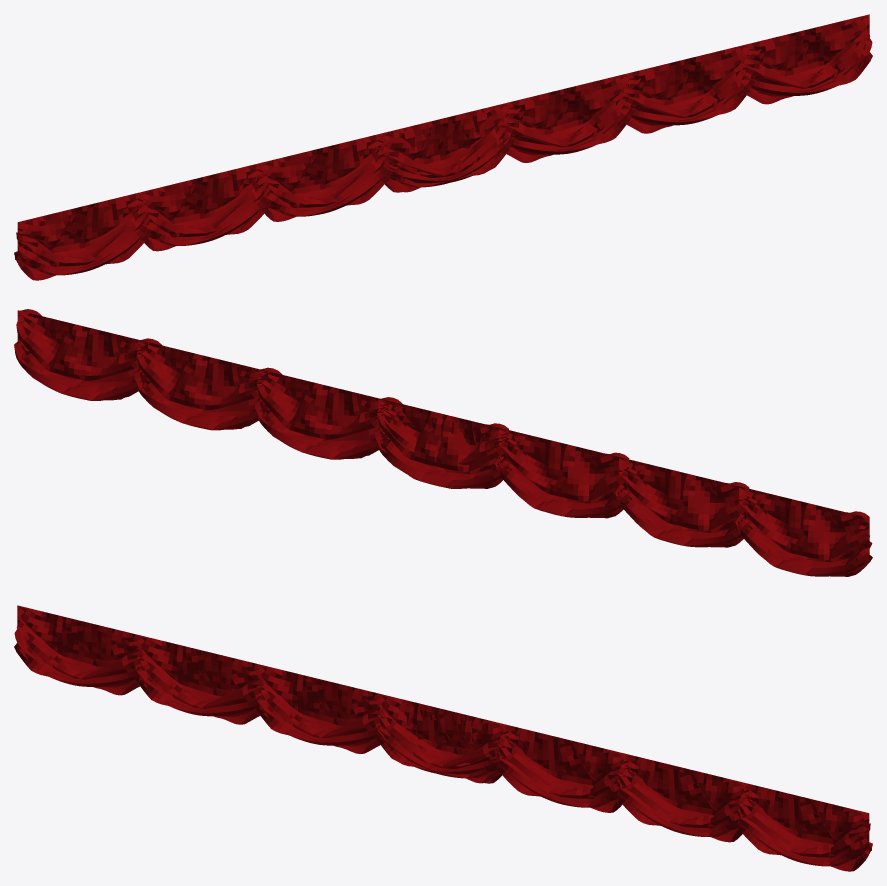
File: Yatay_Perde.fbx
3 renders of one model, top to bottom at view 1: azimuth 30°, elevation 25°; view 2: azimuth 150°, elevation 25°; view 3: azimuth 330°, elevation 25°, orthographic.
Parts seen in each view (by area): view 1: Plane.001; view 2: Plane.001; view 3: Plane.001.
Boxes of the visible parts, x1=… form: Plane.001: x1=14, y1=14, x2=872, y2=280; Plane.001: x1=14, y1=309, x2=872, y2=576; Plane.001: x1=14, y1=605, x2=872, y2=871.
Bounding box in the file's own units: 1059 × 79.38 × 41.5.
